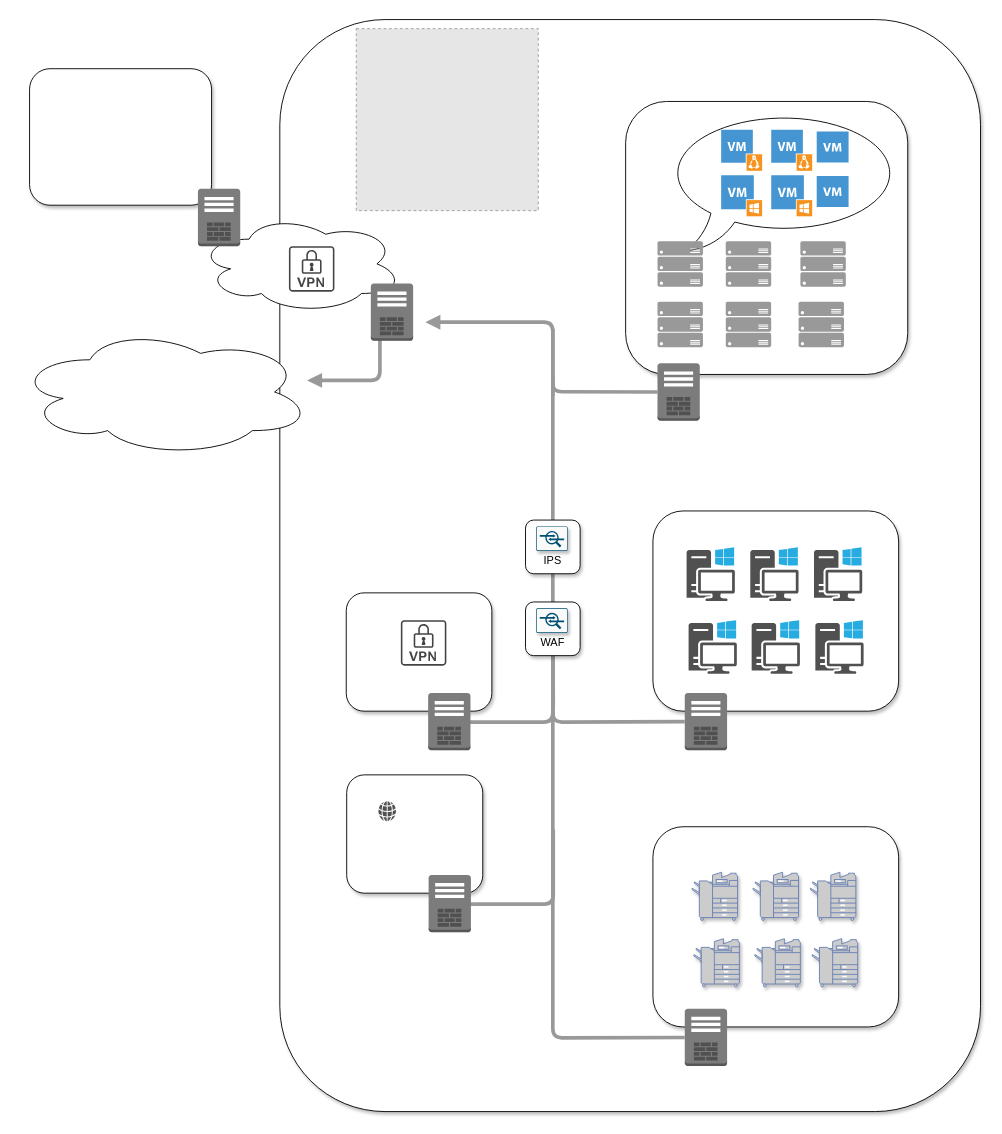
Image size: 1002x1134. Some labels were removed from this diagram. Grey dashed boxes stand in for pictures. Each missing label, with the centre of its shape:
Cloud Provider für div. DIenste: point 121,138
THE INTERNET: point 163,391
